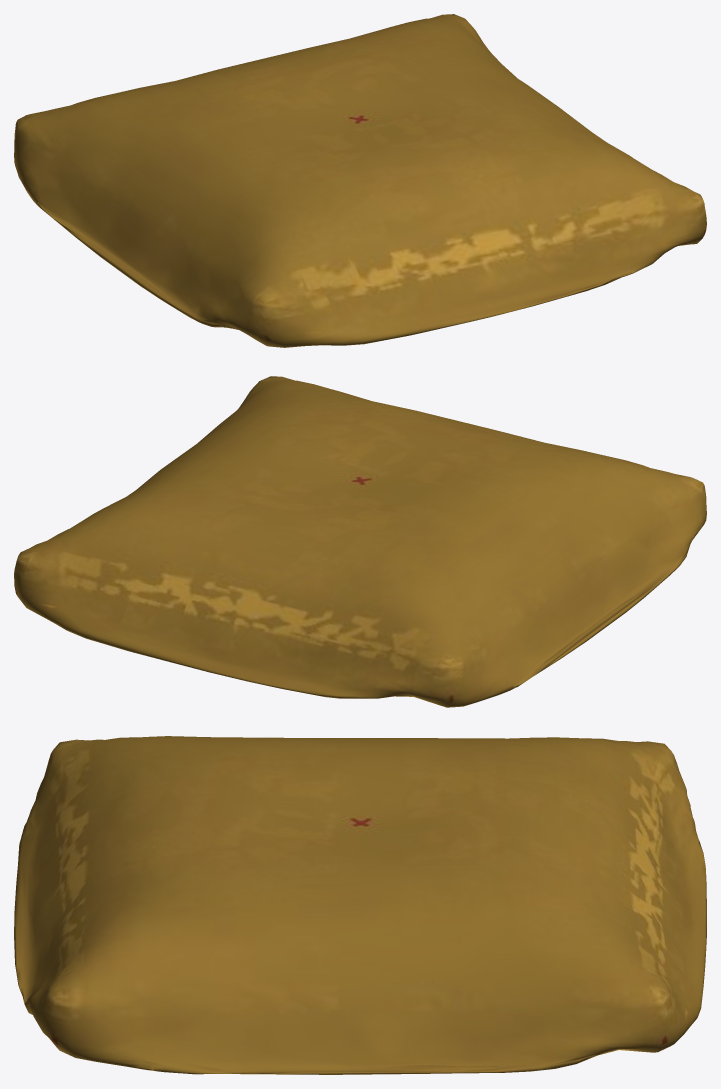
The model's file is zabuton_mustard.glb.
3 views of the same model, one above another, from view 1: azimuth 30°, elevation 25°; view 2: azimuth 150°, elevation 25°; view 3: azimuth 270°, elevation 25° (orthographic). The views are drawn at different scales.
Parts seen in each view (by area): view 1: prop_zabuton_mustard_felt; view 2: prop_zabuton_mustard_felt; view 3: prop_zabuton_mustard_felt.
Part boxes in pixels (x1,y1,x2,y2): prop_zabuton_mustard_felt: (14, 14, 706, 347); prop_zabuton_mustard_felt: (14, 376, 706, 707); prop_zabuton_mustard_felt: (14, 736, 706, 1074).
Bounding box in the file's own units: 1.16 × 0.2226 × 1.18.
1 material, 1 textured.
